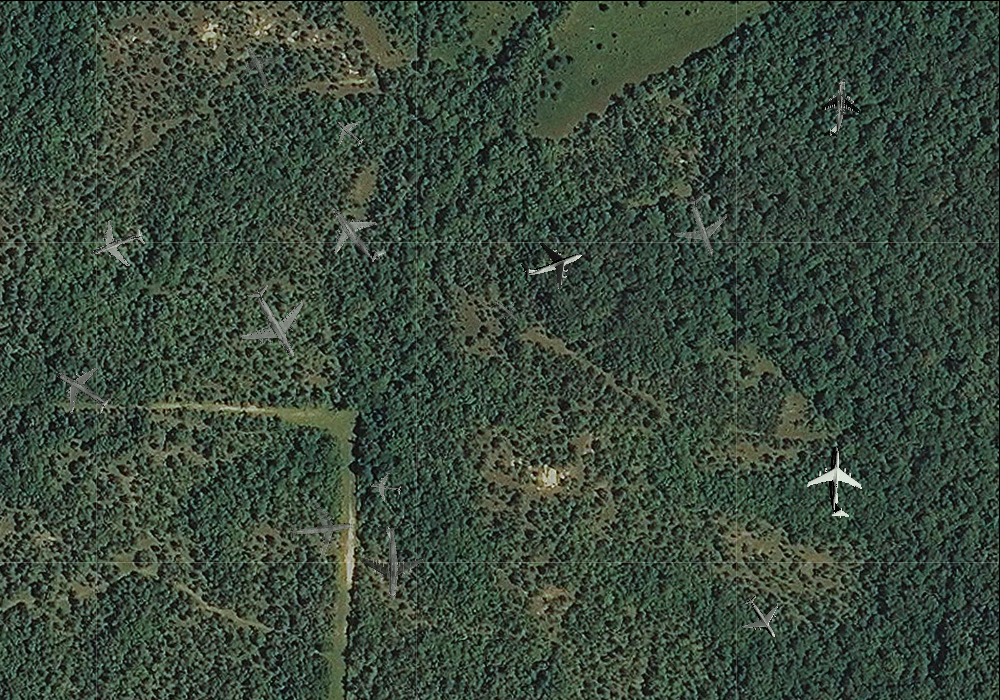plane: (222, 270, 326, 375), (310, 187, 400, 279), (39, 349, 122, 431), (663, 187, 741, 267), (513, 225, 591, 301), (353, 524, 426, 600), (803, 445, 872, 520), (80, 209, 152, 279), (285, 495, 356, 562), (224, 33, 290, 100), (731, 587, 792, 649), (810, 74, 865, 139), (324, 107, 372, 155), (485, 290, 526, 332), (366, 470, 403, 505)
